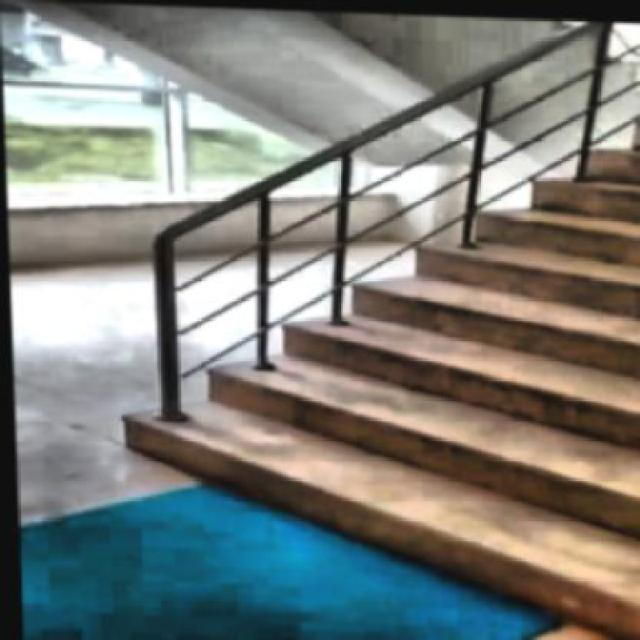stair: (110, 44, 638, 638)
